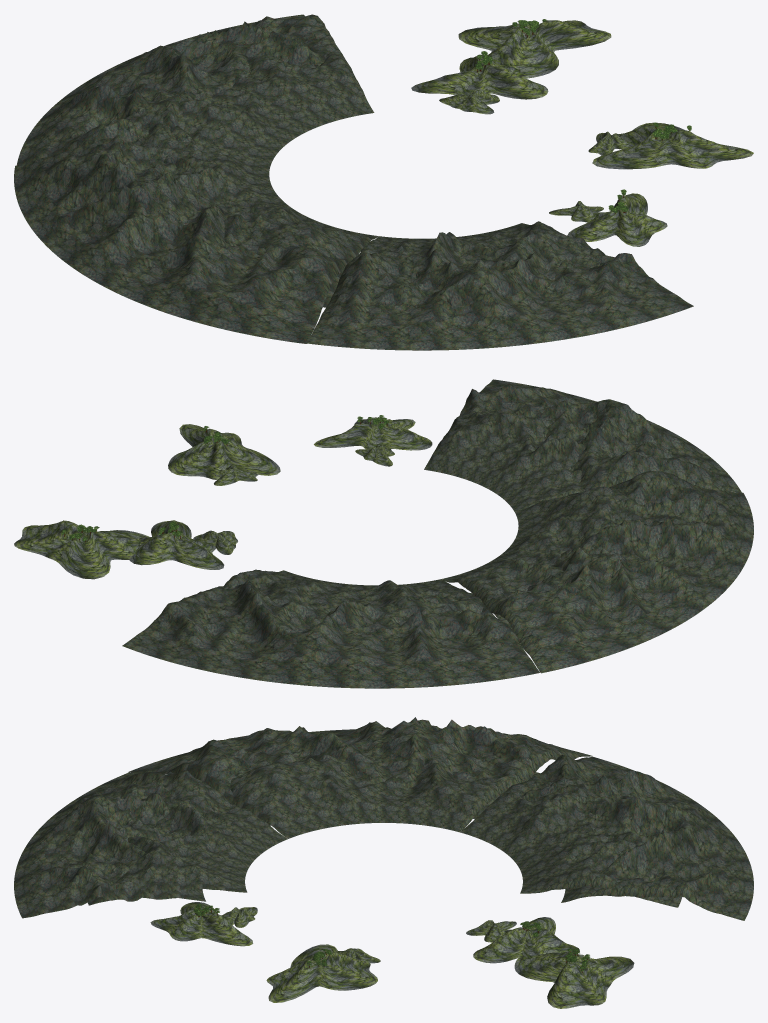
File: minato_coastal_islands.glb
The picture shows the model from 3 angles, top to bottom: view 1: azimuth 30°, elevation 25°; view 2: azimuth 150°, elevation 25°; view 3: azimuth 270°, elevation 25°; orthographic projection. The views are drawn at different scales.
Visible parts, largest first — view 1: minato_landward_outer_1, minato_landward_outer_0, minato_landward_outer_2, minato_landward_inner_2, minato_landward_inner_1, minato_landward_inner_0, minato_bay_islands_0b, minato_bay_islands_1, minato_bay_islands_0, minato_bay_islands_2, IslandPine_Canopy, minato_skerry_0 (+2 smaller); view 2: minato_landward_outer_2, minato_landward_outer_1, minato_landward_outer_0, minato_landward_inner_0, minato_landward_inner_1, minato_landward_inner_2, minato_bay_islands_0b, minato_bay_islands_1, minato_bay_islands_0, minato_bay_islands_2, IslandPine_Canopy, minato_skerry_0 (+2 smaller); view 3: minato_landward_outer_2, minato_landward_outer_0, minato_landward_outer_1, minato_landward_inner_1, minato_landward_inner_2, minato_landward_inner_0, minato_bay_islands_0b, minato_bay_islands_1, minato_bay_islands_0, minato_bay_islands_2, IslandPine_Canopy, minato_skerry_0.
Boxes of the visible parts, left/top/right/bottom form: minato_landward_outer_1: left=14, top=134, right=350, bottom=343; minato_landward_outer_0: left=307, top=248, right=693, bottom=350; minato_landward_outer_2: left=17, top=14, right=343, bottom=165; minato_landward_inner_2: left=134, top=52, right=374, bottom=170; minato_landward_inner_1: left=164, top=149, right=378, bottom=307; minato_landward_inner_0: left=358, top=221, right=600, bottom=279; minato_bay_islands_0b: left=458, top=20, right=611, bottom=78; minato_bay_islands_1: left=592, top=122, right=753, bottom=169; minato_bay_islands_0: left=411, top=54, right=548, bottom=99; minato_bay_islands_2: left=567, top=193, right=667, bottom=246; IslandPine_Canopy: left=475, top=19, right=691, bottom=212; minato_skerry_0: left=439, top=89, right=499, bottom=114; minato_landward_outer_2: left=122, top=580, right=539, bottom=688; minato_landward_outer_1: left=481, top=471, right=753, bottom=673; minato_landward_outer_0: left=447, top=379, right=741, bottom=492; minato_landward_inner_0: left=424, top=409, right=615, bottom=511; minato_landward_inner_1: left=442, top=486, right=643, bottom=628; minato_landward_inner_2: left=223, top=569, right=494, bottom=616; minato_bay_islands_0b: left=14, top=520, right=149, bottom=579; minato_bay_islands_1: left=168, top=424, right=280, bottom=479; minato_bay_islands_0: left=129, top=520, right=224, bottom=569; minato_bay_islands_2: left=314, top=417, right=432, bottom=450; IslandPine_Canopy: left=61, top=415, right=389, bottom=541; minato_skerry_0: left=193, top=530, right=237, bottom=554; minato_landward_outer_2: left=521, top=755, right=753, bottom=920; minato_landward_outer_0: left=14, top=770, right=231, bottom=918; minato_landward_outer_1: left=128, top=717, right=592, bottom=825; minato_landward_inner_1: left=230, top=752, right=540, bottom=838; minato_landward_inner_2: left=460, top=779, right=682, bottom=907; minato_landward_inner_0: left=87, top=801, right=287, bottom=905; minato_bay_islands_0b: left=514, top=951, right=634, bottom=1008; minato_bay_islands_1: left=266, top=944, right=377, bottom=1002; minato_bay_islands_0: left=473, top=917, right=579, bottom=963; minato_bay_islands_2: left=150, top=902, right=253, bottom=946; IslandPine_Canopy: left=193, top=904, right=590, bottom=971; minato_skerry_0: left=466, top=920, right=516, bottom=942.
Size of the model in its own units: 503 by 40.43 by 554.
4 materials, 4 textured.
